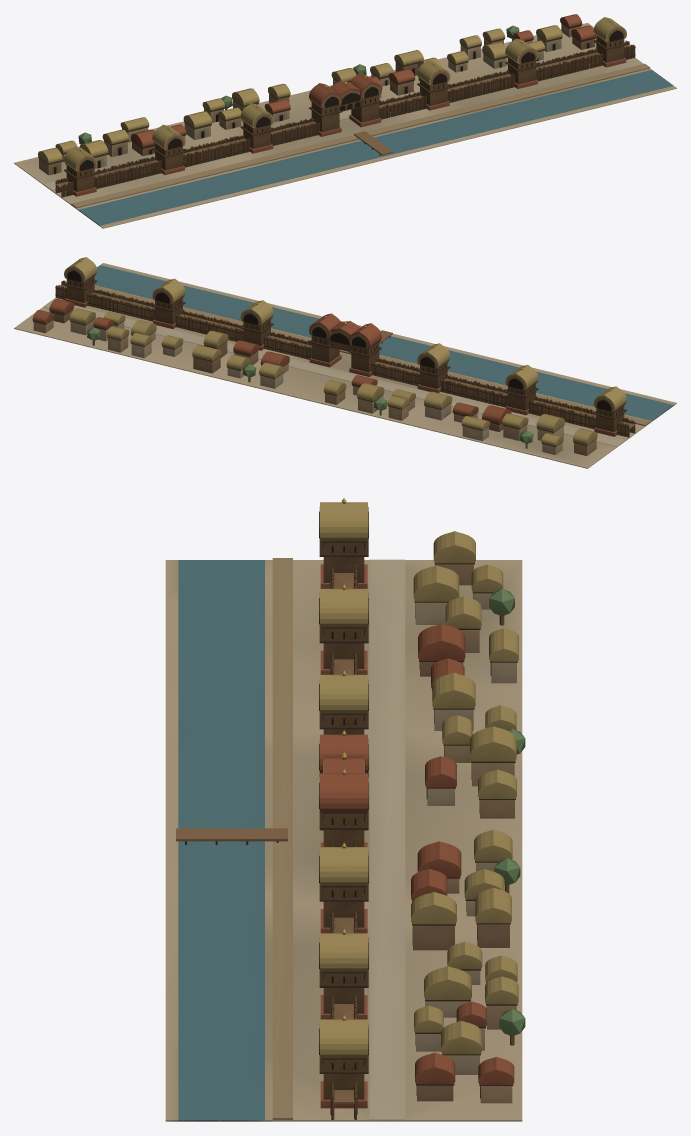
Rendered from palisade.glb.
The picture shows the model from 3 angles, top to bottom: view 1: azimuth 30°, elevation 25°; view 2: azimuth 150°, elevation 25°; view 3: azimuth 270°, elevation 25°; orthographic projection. The views are drawn at different scales.
Visible parts, largest first — view 1: p0_ditch, p3_quarter behind the wall, p2_towers and gate, p1_palisade; view 2: p0_ditch, p3_quarter behind the wall, p2_towers and gate, p1_palisade; view 3: p0_ditch, p3_quarter behind the wall, p2_towers and gate, p1_palisade.
Part boxes in pixels (box(x1,y1,x2,y2)): p0_ditch: box(14, 23, 676, 228); p3_quarter behind the wall: box(38, 14, 595, 175); p2_towers and gate: box(64, 17, 626, 196); p1_palisade: box(55, 40, 635, 197); p0_ditch: box(14, 263, 676, 468); p3_quarter behind the wall: box(32, 299, 597, 455); p2_towers and gate: box(64, 257, 626, 436); p1_palisade: box(55, 280, 635, 437); p0_ditch: box(165, 558, 522, 1121); p3_quarter behind the wall: box(411, 531, 525, 1103); p2_towers and gate: box(176, 498, 368, 1108); p1_palisade: box(330, 564, 357, 1119).
Bounding box in the file's own units: 260 × 20.03 × 70.55.
